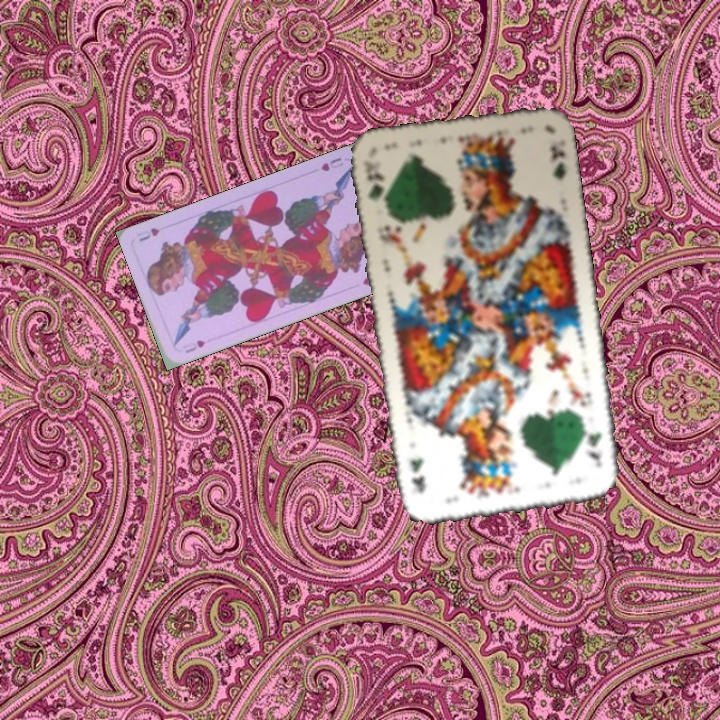GK: (359, 156, 389, 211), (579, 417, 605, 472)
HU: (317, 153, 346, 174), (179, 336, 208, 356)
